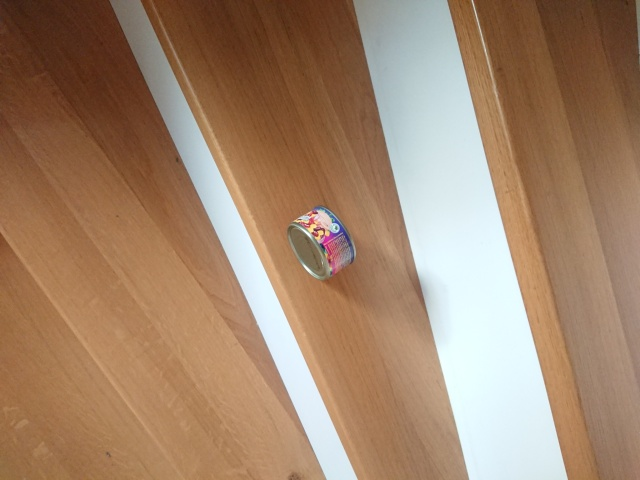Giana Tuna Salad Mexico 185g: (285, 204, 356, 283)
